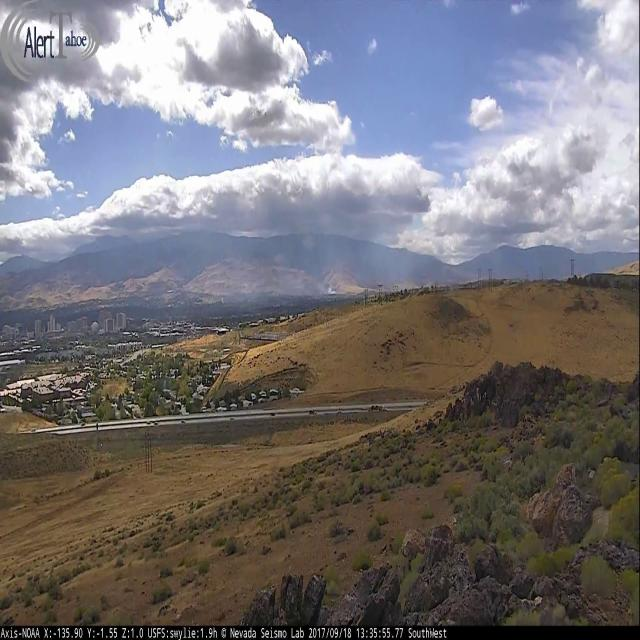smoke: (322, 287, 337, 293)
